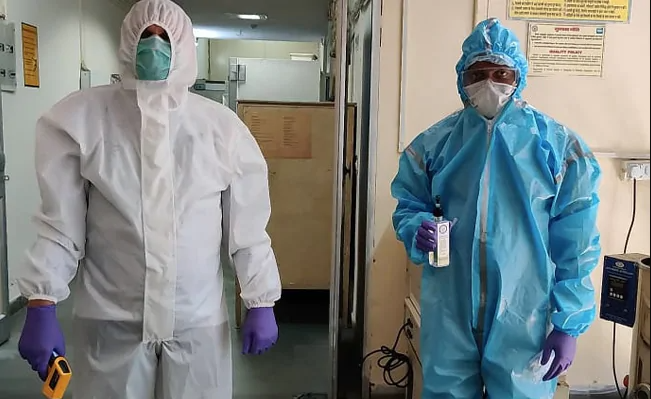Coverall: (33, 2, 269, 399), (394, 13, 596, 399)
Gloves: (19, 305, 67, 383), (533, 326, 578, 385), (239, 306, 280, 359), (411, 220, 443, 266)
Goggles: (453, 62, 524, 90)
with_mask: (460, 66, 521, 121), (130, 24, 177, 83)
